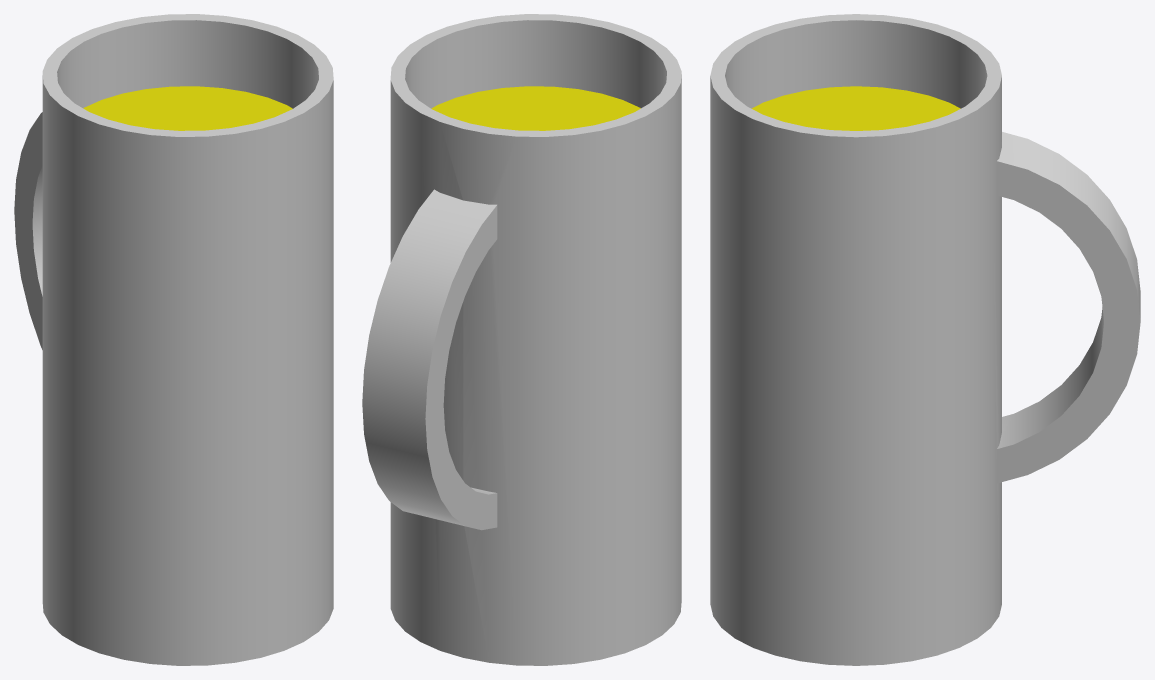
File: josu.fbx
3 views of the same model, side by side, from view 1: azimuth 30°, elevation 25°; view 2: azimuth 150°, elevation 25°; view 3: azimuth 270°, elevation 25° (orthographic).
Visible parts, largest first — view 1: Cangkir, Air; view 2: Cangkir, Air; view 3: Cangkir, Air.
Boxes of the visible parts, bbox=[...] form: Cangkir: bbox=[14, 14, 333, 665]; Air: bbox=[83, 86, 292, 130]; Cangkir: bbox=[362, 14, 681, 665]; Air: bbox=[431, 86, 640, 130]; Cangkir: bbox=[710, 14, 1140, 665]; Air: bbox=[751, 86, 960, 130].
Size of the model in its own units: 400 by 800 by 590.
